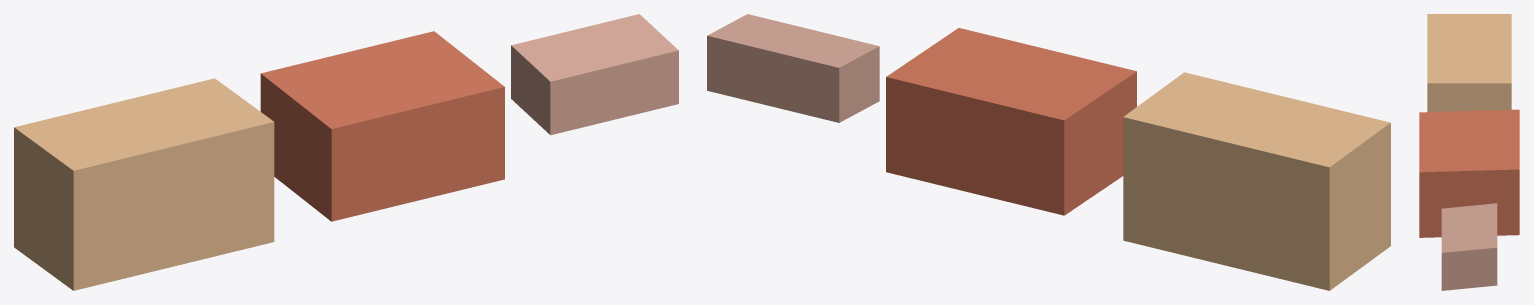
Rendered from StoneBlocks.FBX.
3 views of the same model, side by side, from view 1: azimuth 30°, elevation 25°; view 2: azimuth 150°, elevation 25°; view 3: azimuth 270°, elevation 25° (orthographic). The views are drawn at different scales.
Parts seen in each view (by area): view 1: StoneBlock_Large, StoneBlock_Mid, StoneBlock_Small; view 2: StoneBlock_Large, StoneBlock_Mid, StoneBlock_Small; view 3: StoneBlock_Mid, StoneBlock_Large, StoneBlock_Small.
Boxes of the visible parts, x1,y1,x2,y2 form: StoneBlock_Large: (14, 78, 274, 290); StoneBlock_Mid: (260, 31, 504, 221); StoneBlock_Small: (511, 14, 678, 135); StoneBlock_Large: (1123, 72, 1390, 290); StoneBlock_Mid: (886, 28, 1136, 215); StoneBlock_Small: (707, 14, 879, 122); StoneBlock_Mid: (1419, 109, 1519, 237); StoneBlock_Large: (1427, 14, 1511, 111); StoneBlock_Small: (1441, 203, 1497, 290).
Bounding box in the file's own units: 877 × 164 × 175.
